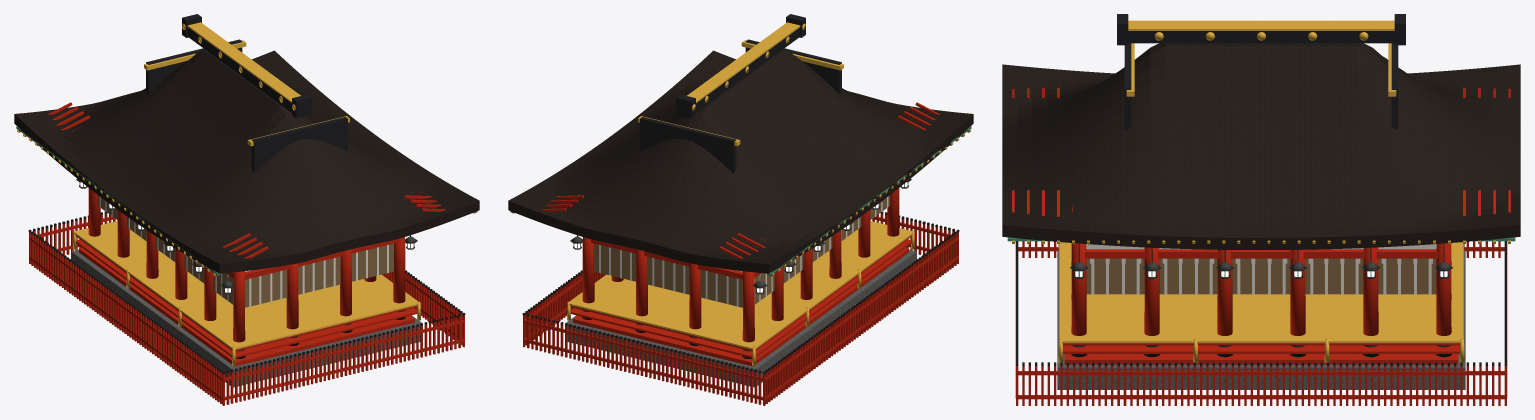
Rendered from Asset_06_Gehaiden_Worship_Hall.glb.
3 renders of one model, left to right at view 1: azimuth 30°, elevation 25°; view 2: azimuth 150°, elevation 25°; view 3: azimuth 270°, elevation 25°, orthographic. The views are drawn at different scales.
Visible parts, largest first — view 1: Z02_Gehaiden_Roof, Z02_Gehaiden_Verandah_Gold, Z02_Gehaiden_Podium, Z02_Gehaiden_Floor, Z02_Gehaiden_Verandah_MidRail, Z02_Gehaiden_Roof_Gable_Pediment_-1, Z02_Gehaiden_Roof_Ridge_Gold_Cap, Z02_Sudare_X_1_-5.0, Z02_Sudare_X_0_-5.0, Z02_Gehaiden_Roof_Ridge_Beam, Z02_Sudare_X_2_-5.0, Z02_Tamagaki_RailY_Low_-6.7 (+16 smaller); view 2: Z02_Gehaiden_Roof, Z02_Gehaiden_Verandah_Gold, Z02_Gehaiden_Podium, Z02_Gehaiden_Floor, Z02_Gehaiden_Verandah_MidRail, Z02_Gehaiden_Roof_Gable_Pediment_1, Z02_Gehaiden_Roof_Ridge_Gold_Cap, Z02_Sudare_X_1_5.0, Z02_Sudare_X_0_5.0, Z02_Gehaiden_Roof_Ridge_Beam, Z02_Sudare_X_2_5.0, Z02_Tamagaki_RailY_Low_6.7 (+15 smaller); view 3: Z02_Gehaiden_Roof, Z02_Gehaiden_Verandah_Gold, Z02_Gehaiden_Podium, Z02_Gehaiden_Floor, Z02_Gehaiden_Verandah_MidRail, Z02_Gehaiden_Roof_Ridge_Beam, Z02_Nageshi_Beam_Mid, Z02_Gehaiden_Roof_Ridge_Gold_Cap, Z02_Tamagaki_RailX_17.3, Z02_Tamagaki_RailX_Low_17.3, Z02_Sudare_Y_1_15.7, Z02_Sudare_Y_2_15.7 (+13 smaller).
Boxes of the visible parts, <box> form: Z02_Gehaiden_Roof: <box>14,50,479,273</box>; Z02_Gehaiden_Verandah_Gold: <box>74,221,420,349</box>; Z02_Gehaiden_Podium: <box>71,249,421,387</box>; Z02_Gehaiden_Floor: <box>79,248,414,366</box>; Z02_Gehaiden_Verandah_MidRail: <box>76,239,417,357</box>; Z02_Gehaiden_Roof_Gable_Pediment_-1: <box>251,117,347,173</box>; Z02_Gehaiden_Roof_Ridge_Gold_Cap: <box>187,22,300,102</box>; Z02_Sudare_X_1_-5.0: <box>298,256,340,294</box>; Z02_Sudare_X_0_-5.0: <box>245,269,287,307</box>; Z02_Gehaiden_Roof_Ridge_Beam: <box>188,27,291,112</box>; Z02_Sudare_X_2_-5.0: <box>351,243,393,281</box>; Z02_Tamagaki_RailY_Low_-6.7: <box>224,339,464,400</box>; Z02_Gehaiden_Roof: <box>508,50,973,273</box>; Z02_Gehaiden_Verandah_Gold: <box>567,221,913,349</box>; Z02_Gehaiden_Podium: <box>566,249,916,387</box>; Z02_Gehaiden_Floor: <box>573,248,908,366</box>; Z02_Gehaiden_Verandah_MidRail: <box>570,239,911,357</box>; Z02_Gehaiden_Roof_Gable_Pediment_1: <box>640,117,736,173</box>; Z02_Gehaiden_Roof_Ridge_Gold_Cap: <box>687,22,800,102</box>; Z02_Sudare_X_1_5.0: <box>647,256,689,294</box>; Z02_Sudare_X_0_5.0: <box>700,269,742,307</box>; Z02_Gehaiden_Roof_Ridge_Beam: <box>696,27,799,112</box>; Z02_Sudare_X_2_5.0: <box>594,243,636,281</box>; Z02_Tamagaki_RailY_Low_6.7: <box>523,339,763,400</box>; Z02_Gehaiden_Roof: <box>1002,43,1520,249</box>; Z02_Gehaiden_Verandah_Gold: <box>1059,242,1463,343</box>; Z02_Gehaiden_Podium: <box>1057,250,1465,389</box>; Z02_Gehaiden_Floor: <box>1064,354,1458,364</box>; Z02_Gehaiden_Verandah_MidRail: <box>1063,345,1459,353</box>; Z02_Gehaiden_Roof_Ridge_Beam: <box>1128,31,1394,43</box>; Z02_Nageshi_Beam_Mid: <box>1085,249,1437,258</box>; Z02_Gehaiden_Roof_Ridge_Gold_Cap: <box>1128,20,1394,30</box>; Z02_Tamagaki_RailX_17.3: <box>1017,371,1505,375</box>; Z02_Tamagaki_RailX_Low_17.3: <box>1017,395,1505,399</box>; Z02_Sudare_Y_1_15.7: <box>1159,258,1217,294</box>; Z02_Sudare_Y_2_15.7: <box>1232,258,1290,294</box>.
Size of the model in its own units: 10.5 by 9.46 by 14.2.
Materials: 10 (4 with a texture image).
